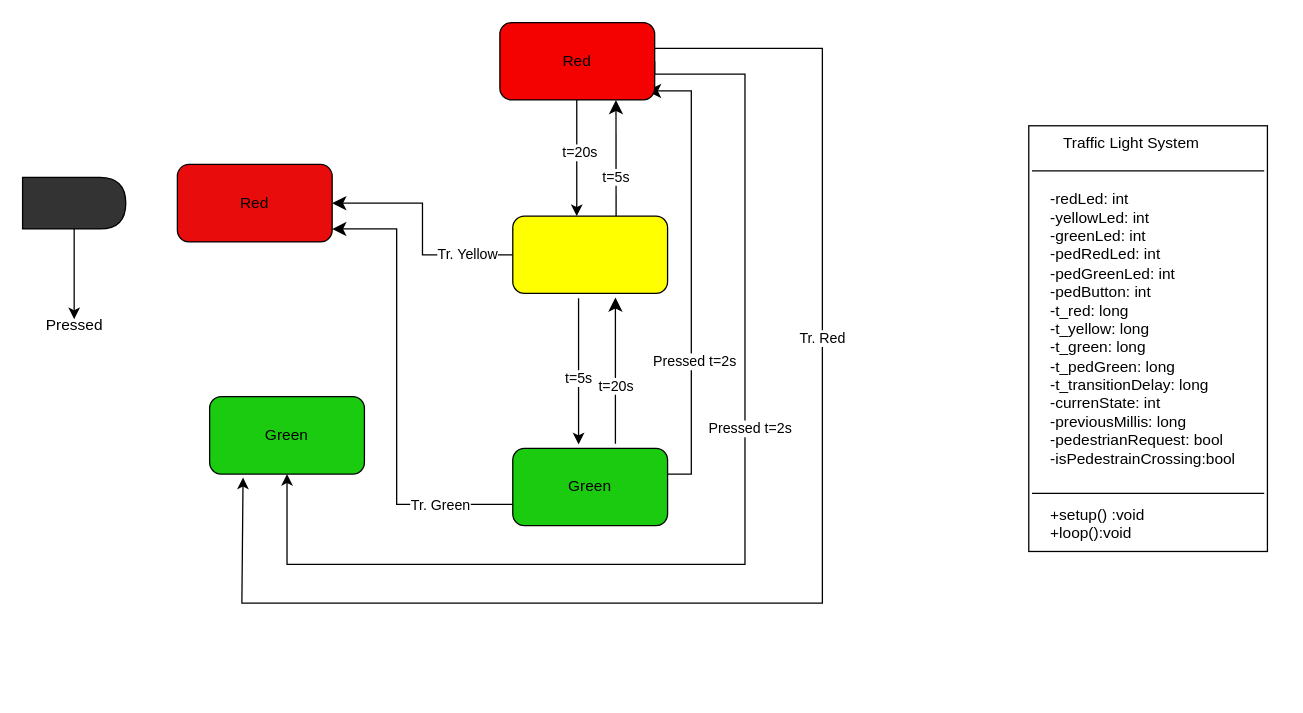
The diagram is 1303 pixels wide and 713 high, and some of its shapes have lost their labels. Each missing label, with the centre of its shape:
"Push Button" goes at point (73, 202).
"Yellow" goes at point (589, 254).
